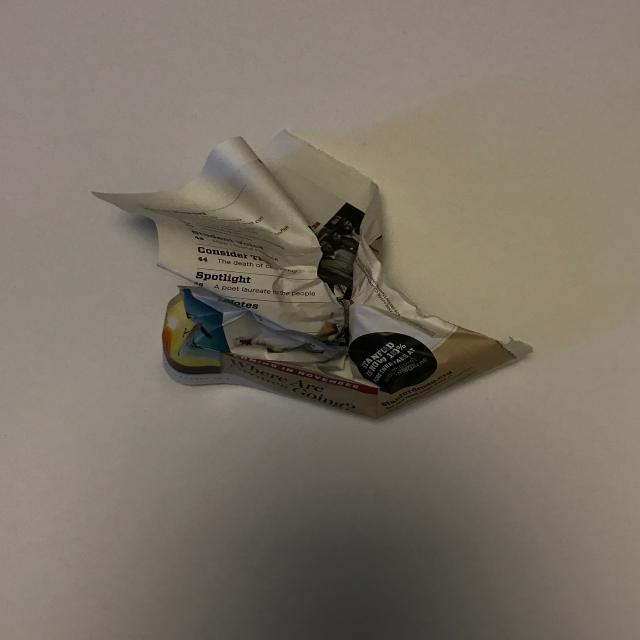Paper: (77, 116, 578, 439)
